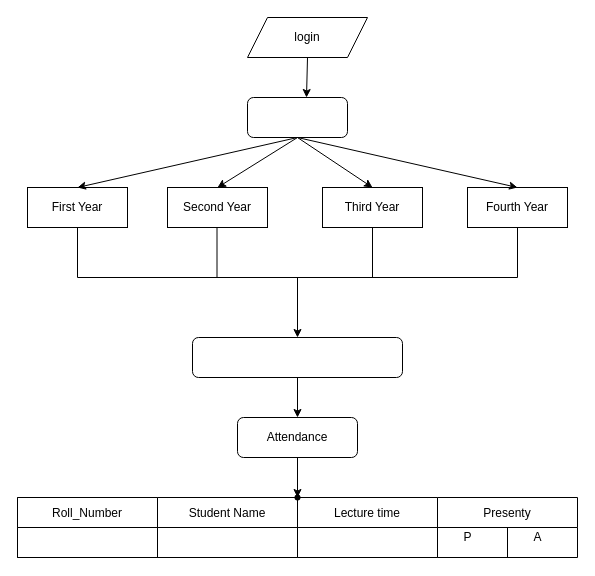
Image size: 595x576. Some labels were removed from this diagram. Here are the shapes that lost their labels. From the top down, the centre of each, then its label:
point (297, 117): Home Page
point (297, 357): Dashboard
